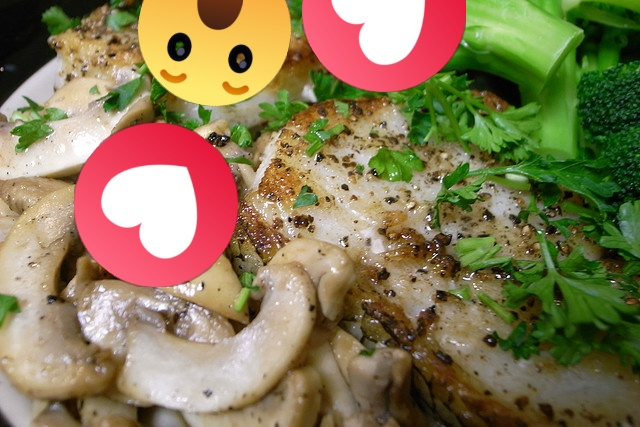love: (74, 123, 238, 287), (302, 0, 466, 92)
wow: (138, 0, 291, 106)
